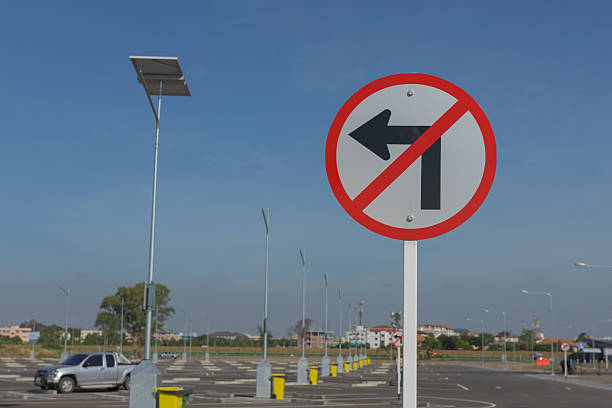otomobil: (27, 347, 156, 406)
sola_girilmez: (329, 74, 498, 247)
